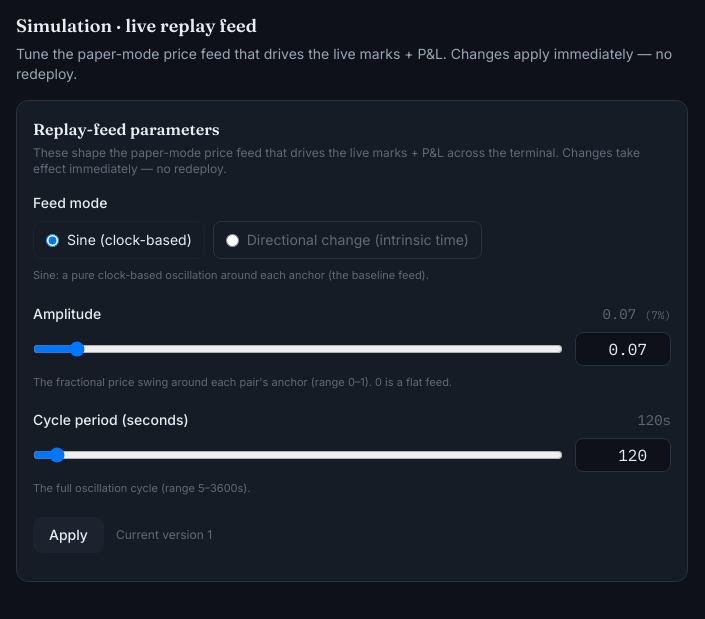
SimulationSurface — read + tune the paper replay-feed parameters › surfaces the typed 400 message when a PUT is refused (out-of-range)
The width and height of the screenshot is (705, 619).
expect the number field named "Amplitude value" is shown: met, box [575,332,671,366]
Click the button "Apply".
click(68, 534)  # box [33,516,104,552]
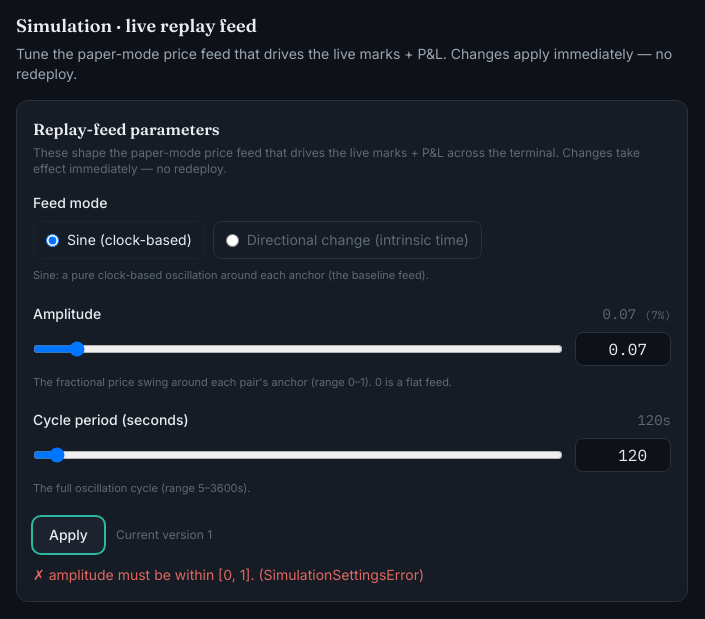
expect the message shows "amplitude must be within": met, box [49,566,254,582]
expect the message shows "SimulationSettingsError": met, box [264,566,419,582]
